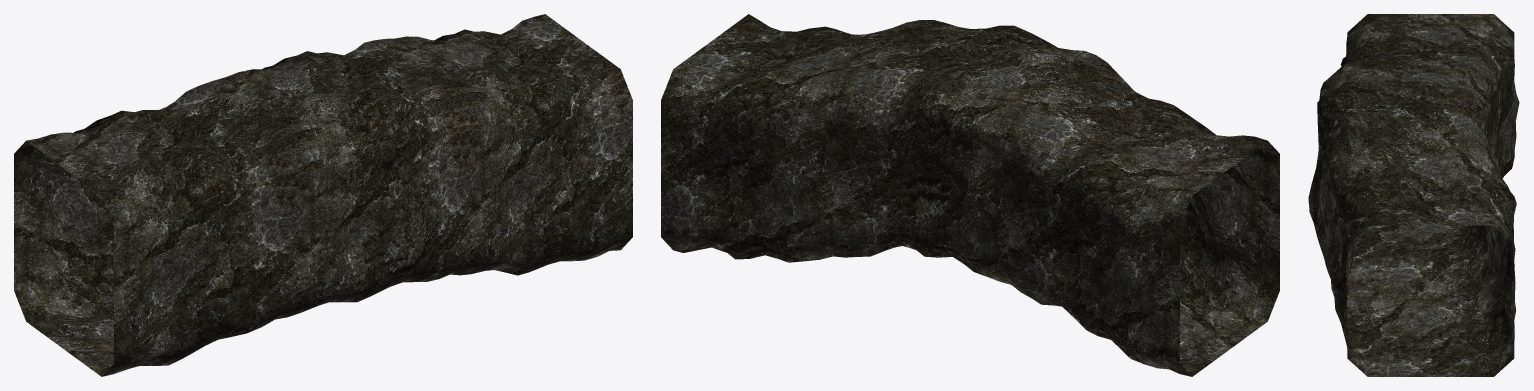
The model's file is Cave_066.fbx.
The picture shows the model from 3 angles, left to right: view 1: azimuth 30°, elevation 25°; view 2: azimuth 150°, elevation 25°; view 3: azimuth 270°, elevation 25°; orthographic projection. The views are drawn at different scales.
Parts seen in each view (by area): view 1: Cave.066; view 2: Cave.066; view 3: Cave.066.
Part boxes in pixels (left/top/right/bottom): Cave.066: left=14, top=14, right=632, bottom=376; Cave.066: left=661, top=14, right=1279, bottom=376; Cave.066: left=1308, top=14, right=1519, bottom=376.
Bounding box in the file's own units: 900 × 369 × 379.
